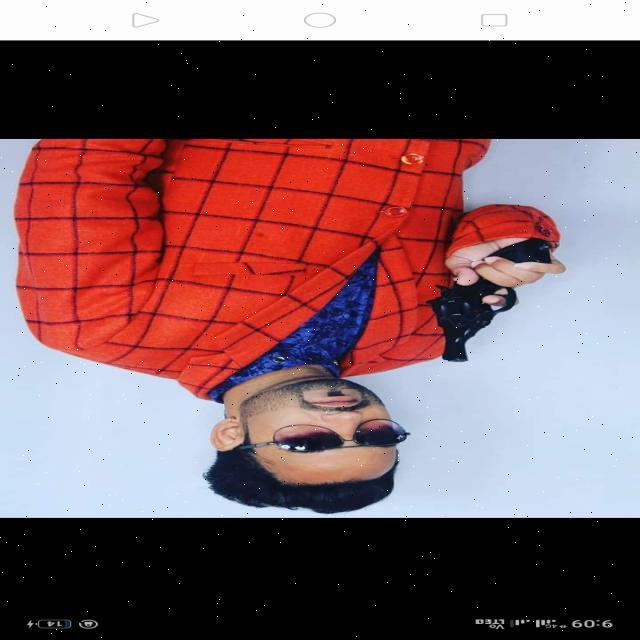gun: (421, 231, 567, 366)
